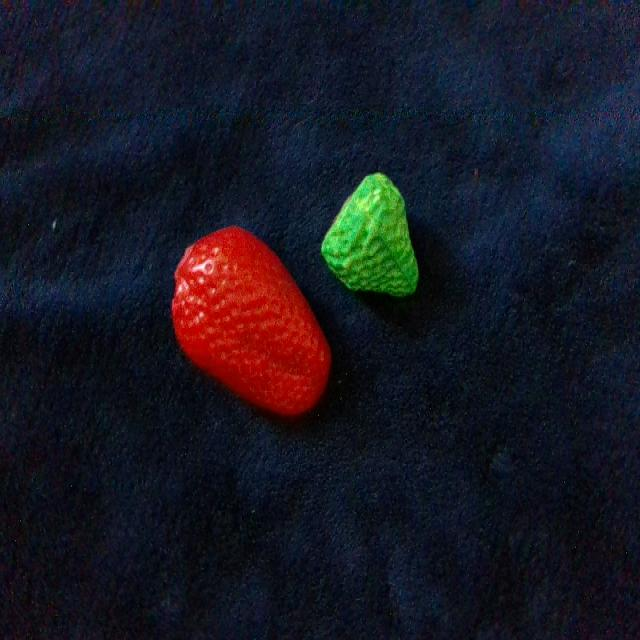grande_roja: (172, 227, 330, 413)
verde: (321, 175, 418, 296)
